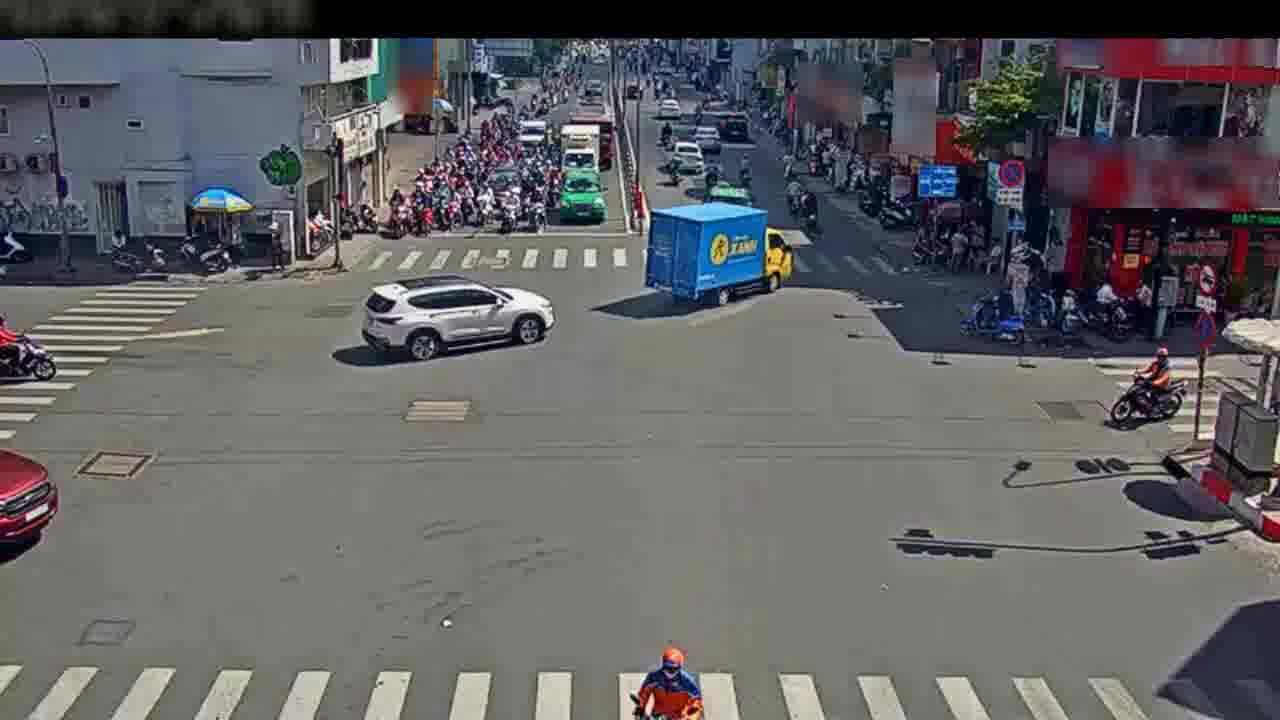8: (643, 205, 794, 309)
container: (365, 270, 553, 357), (0, 450, 60, 538)
motorbike: (1103, 347, 1191, 421), (638, 651, 705, 718), (0, 316, 53, 390), (962, 292, 1024, 342), (790, 180, 817, 230)
